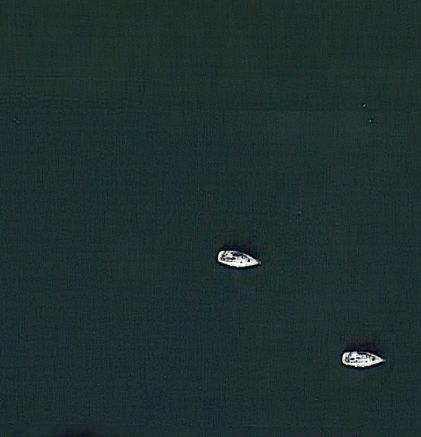boat: (215, 248, 264, 273), (339, 347, 386, 370)
